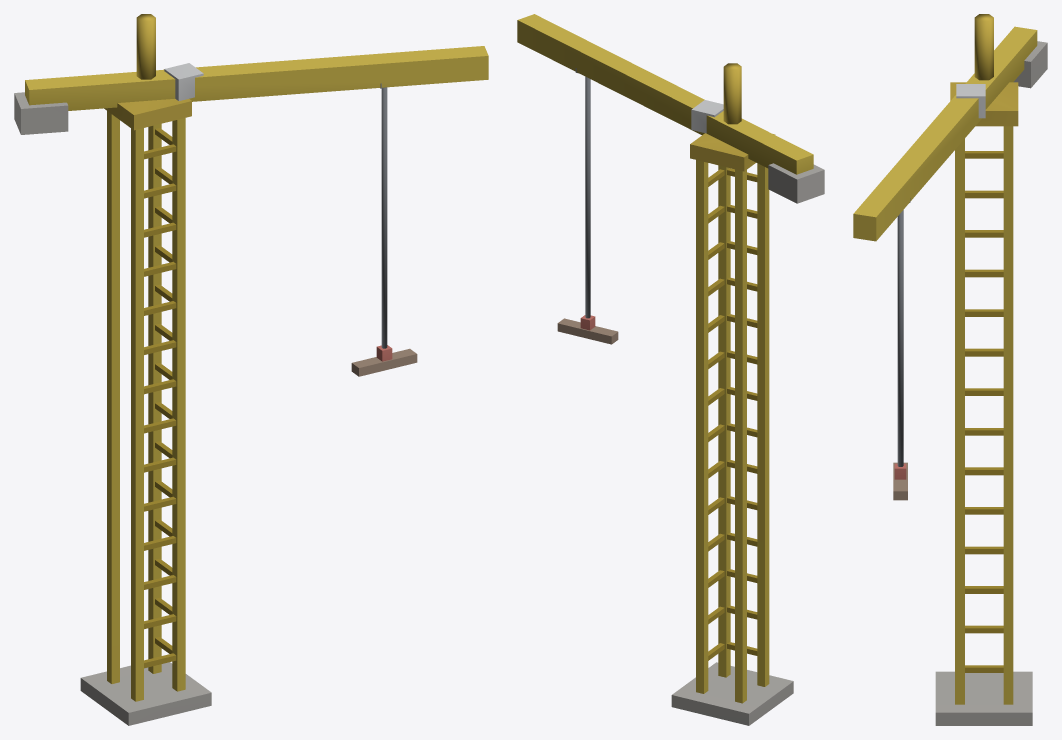
The model's file is crane-1-3.glb.
The picture shows the model from 3 angles, left to right: view 1: azimuth 30°, elevation 25°; view 2: azimuth 150°, elevation 25°; view 3: azimuth 270°, elevation 25°; orthographic projection. The views are drawn at different scales.
Parts seen in each view (by area): view 1: crane-1-3; view 2: crane-1-3; view 3: crane-1-3.
Part boxes in pixels (<box>): crane-1-3: <box>14,14,488,725</box>; crane-1-3: <box>517,14,824,725</box>; crane-1-3: <box>853,14,1047,725</box>.
Bounding box in the file's own units: 0.9544 × 1.57 × 0.4004.
